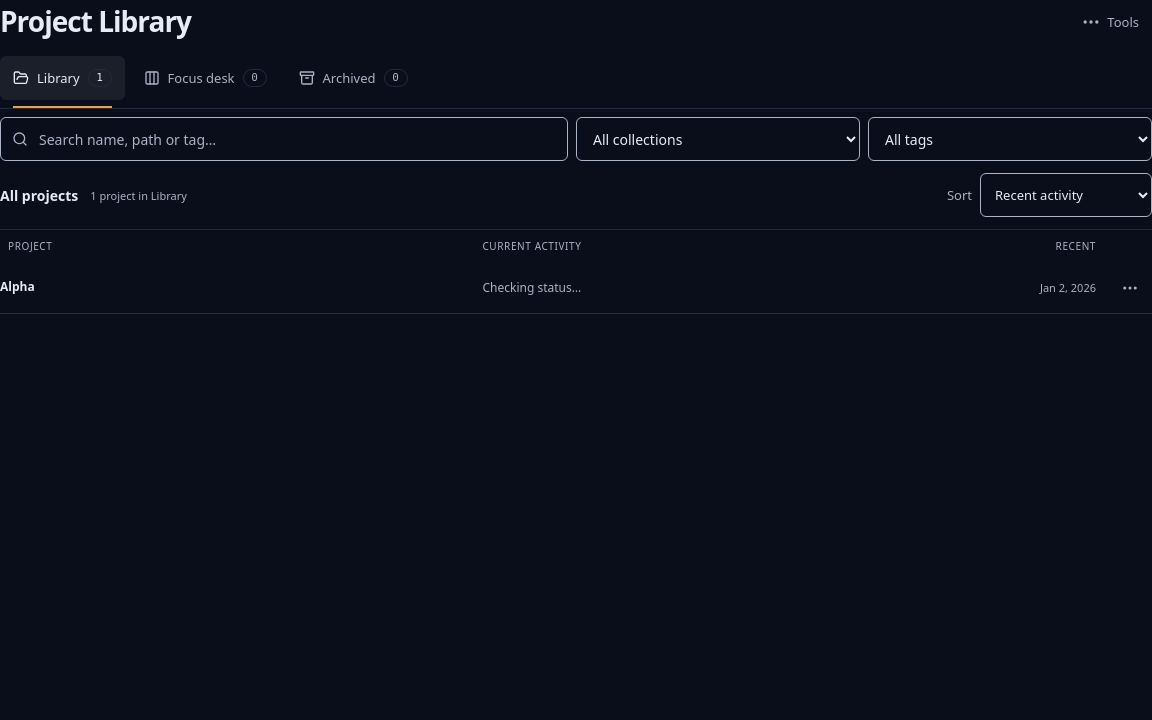
Scenario: keeps a pending collection creation guarded and restores the picker focus
Click the button named "Details and organization for Alpha". click: (1130, 288)
box: [1108,266,1151,310]
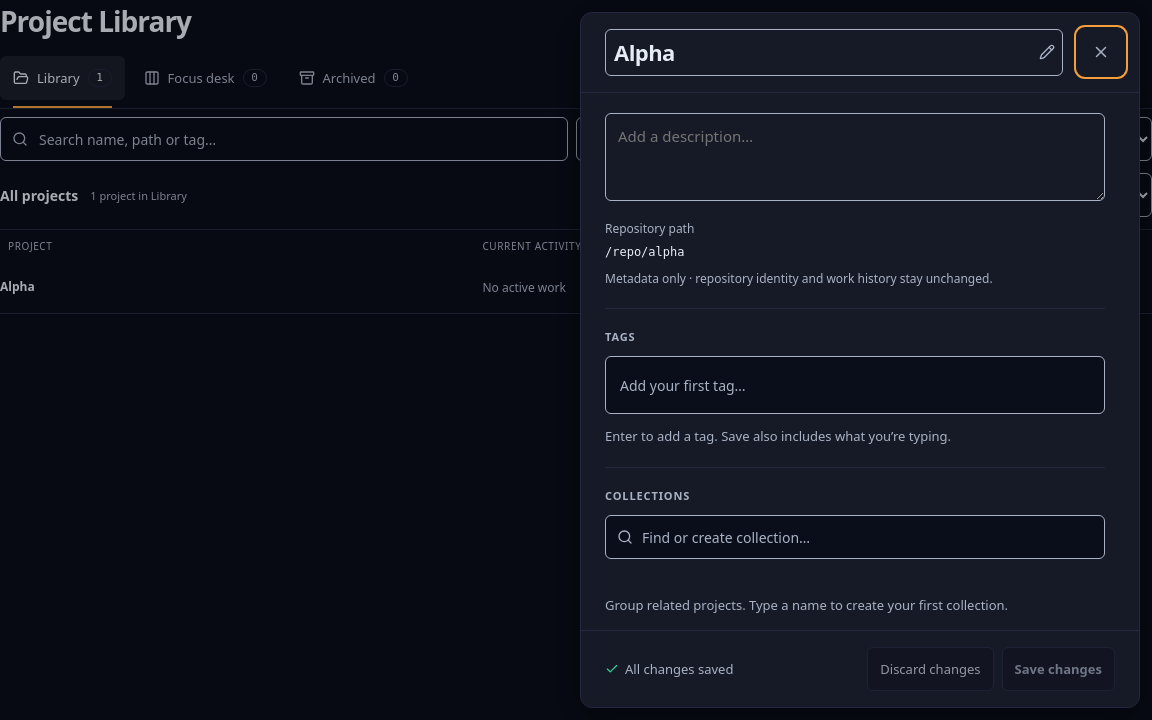
Type "Draft stays here" into the text box labelled "description". click: (855, 157)
box: [605,113,1105,201]
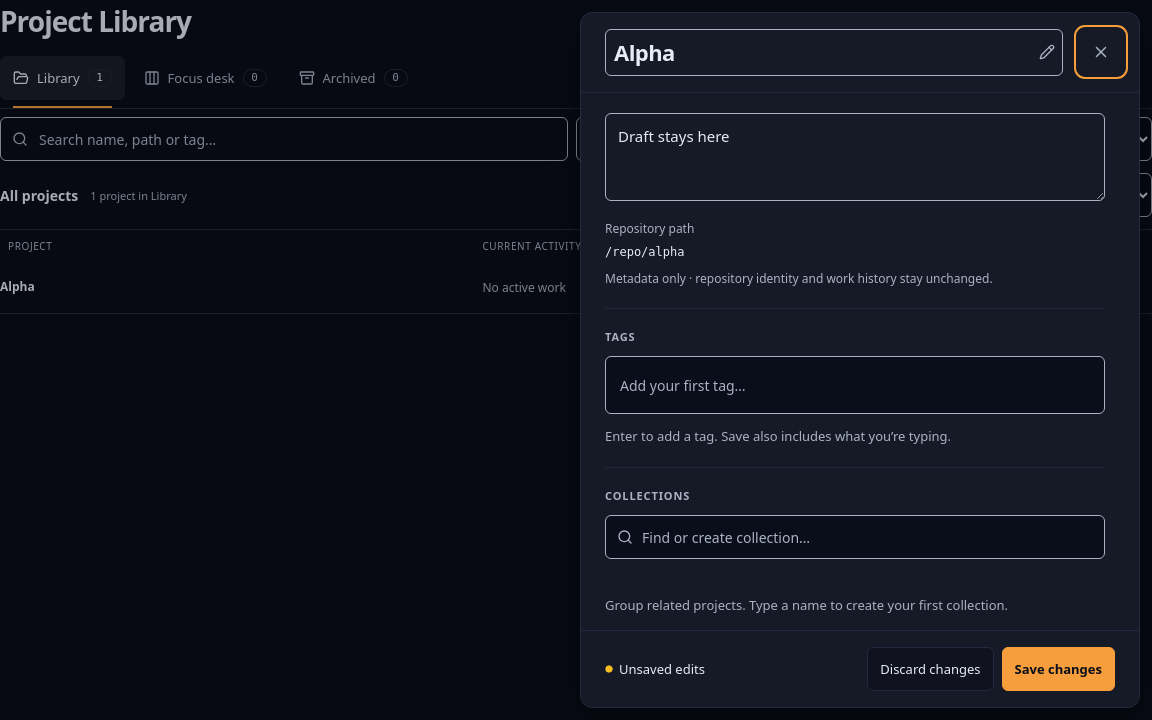
Type "Team" into the search field labelled "Find or create collection". click: (855, 537)
box: [605,515,1105,559]
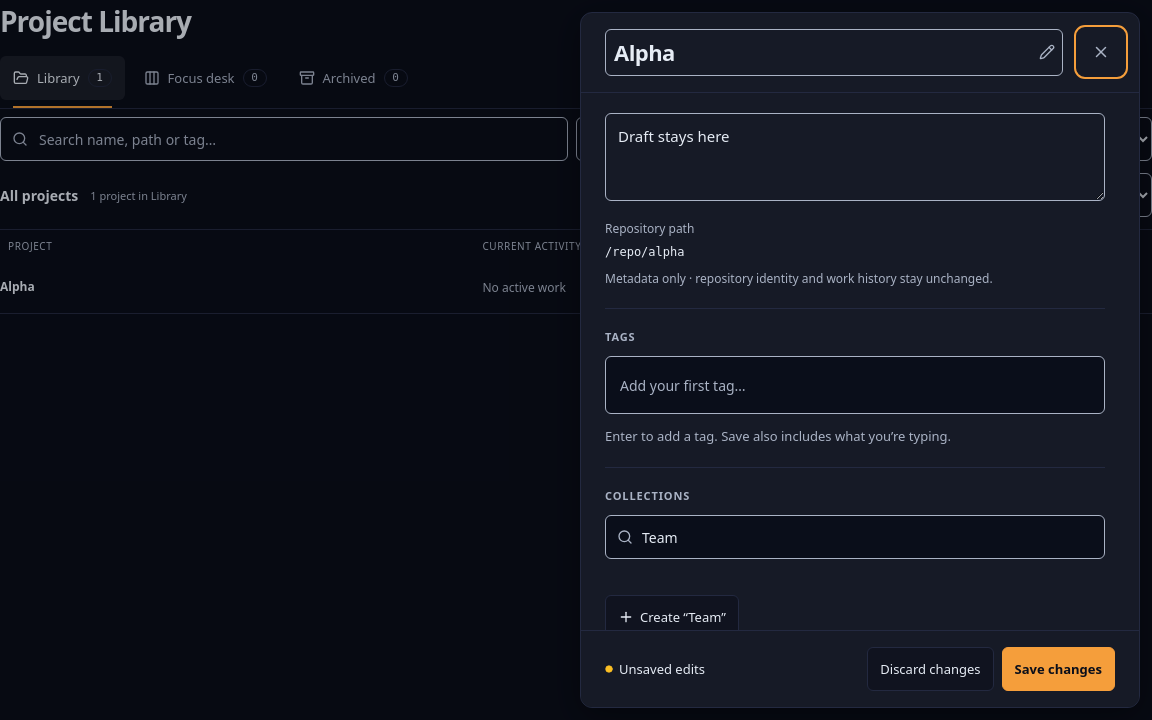
Click the button with aria-label "Create collection Team". click: (672, 617)
box: [605,595,739,639]
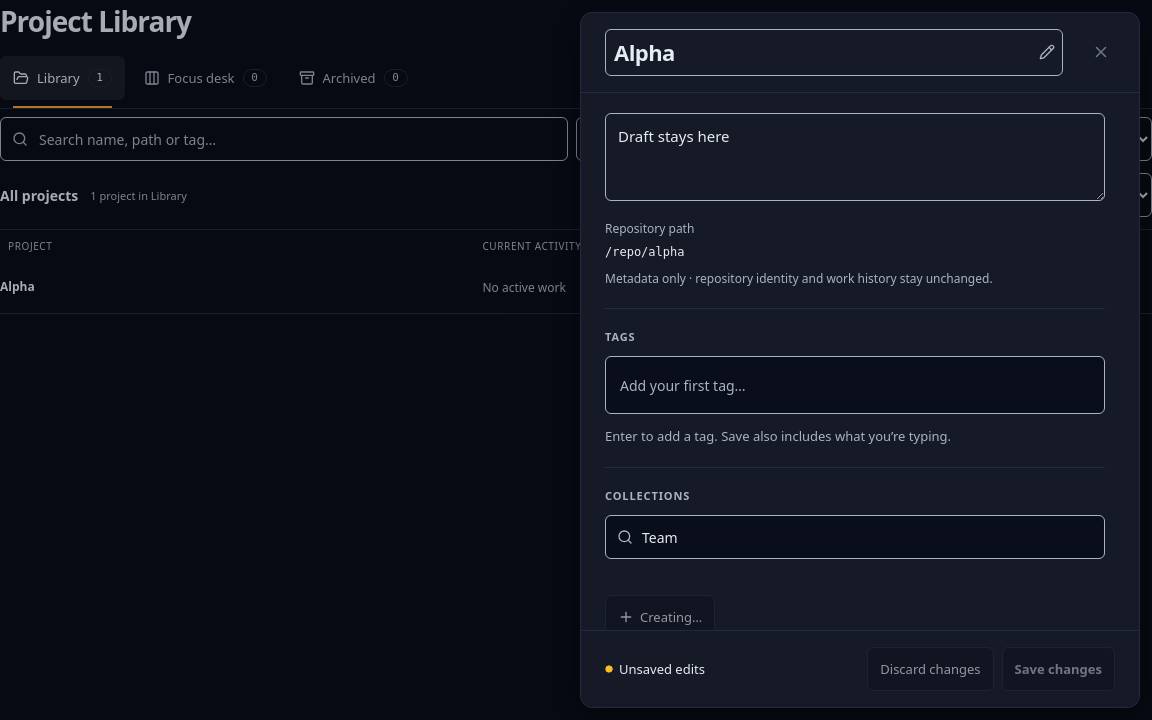
Expected: the button named "Close" is disabled, [1079,30,1123,74]
Expected: the button "Save changes" is disabled, [1002,647,1115,691]
Press Escape in the search field named "Find or create collection", box [605,515,1105,559]
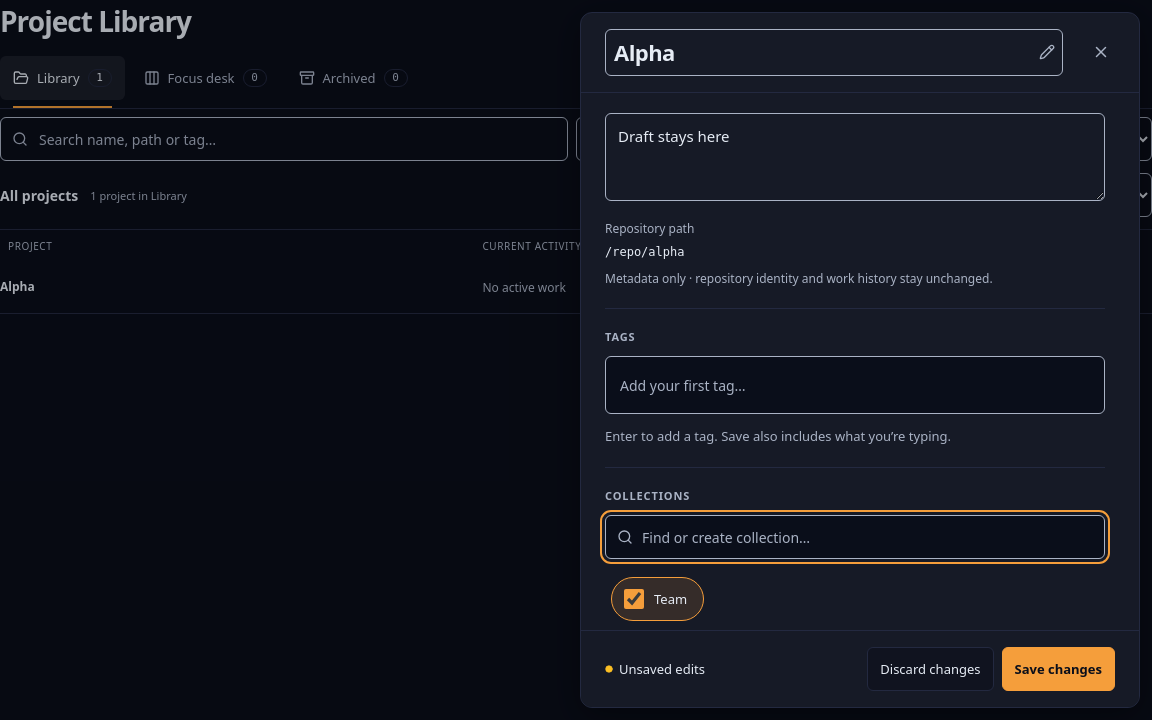
Expected: the dialog is shown, [580,12,1140,708]
Expected: the checkbox labelled "Team" is checked, [624,589,644,609]
